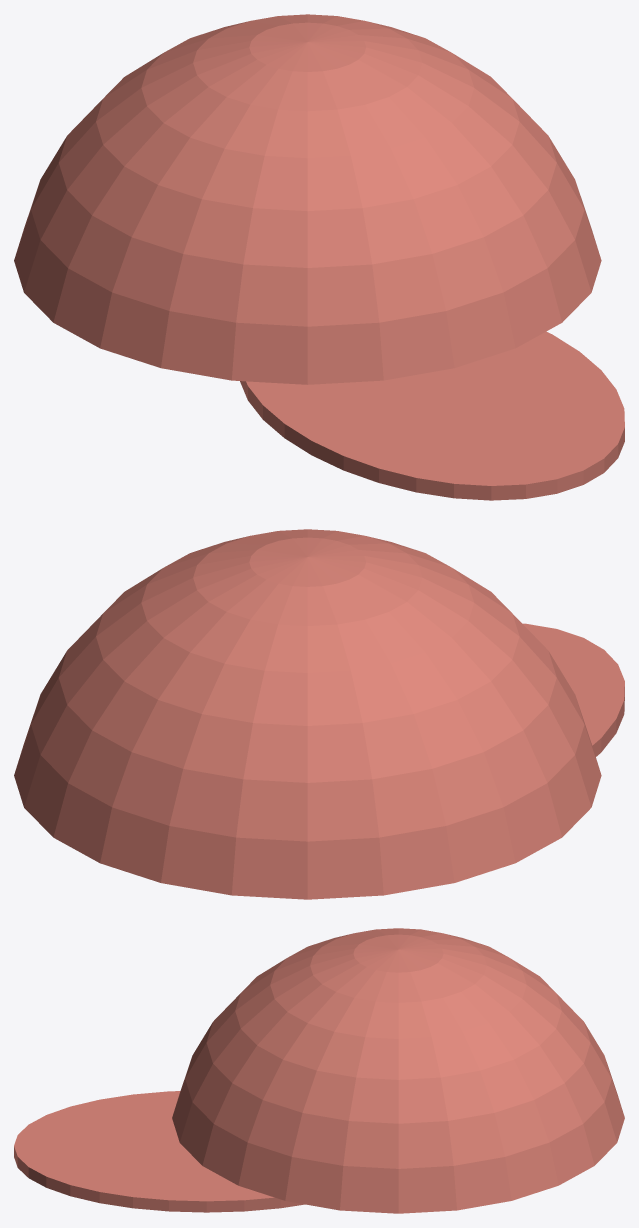
The model's file is cap.glb.
The picture shows the model from 3 angles, top to bottom: view 1: azimuth 30°, elevation 25°; view 2: azimuth 150°, elevation 25°; view 3: azimuth 270°, elevation 25°; orthographic projection. The views are drawn at different scales.
Visible parts, largest first — view 1: cap; view 2: cap; view 3: cap.
Part boxes in pixels (left/top/right/bottom): cap: left=14, top=14, right=624, bottom=500; cap: left=14, top=529, right=624, bottom=899; cap: left=14, top=928, right=624, bottom=1213.
Bounding box in the file's own units: 0.2197 × 0.111 × 0.2963.
